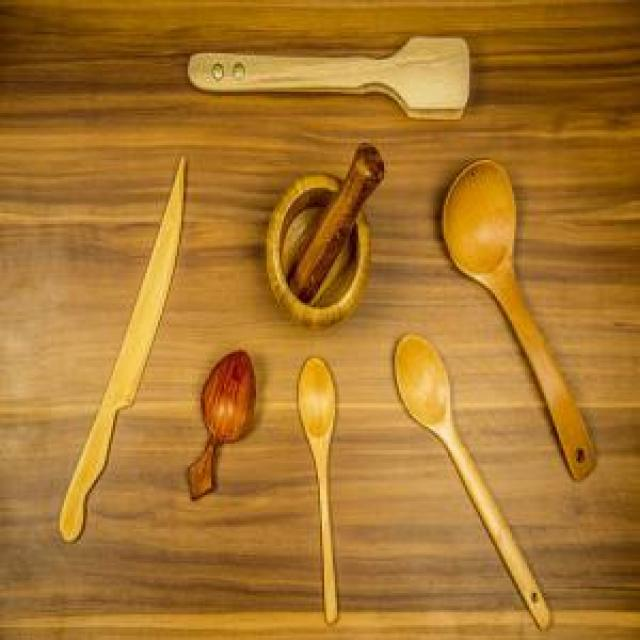knife: (56, 156, 186, 558)
